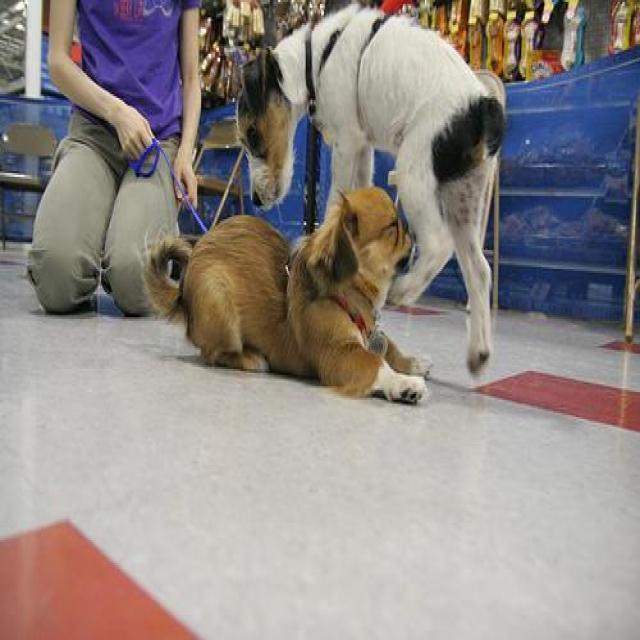pekinese: (120, 190, 442, 413)
